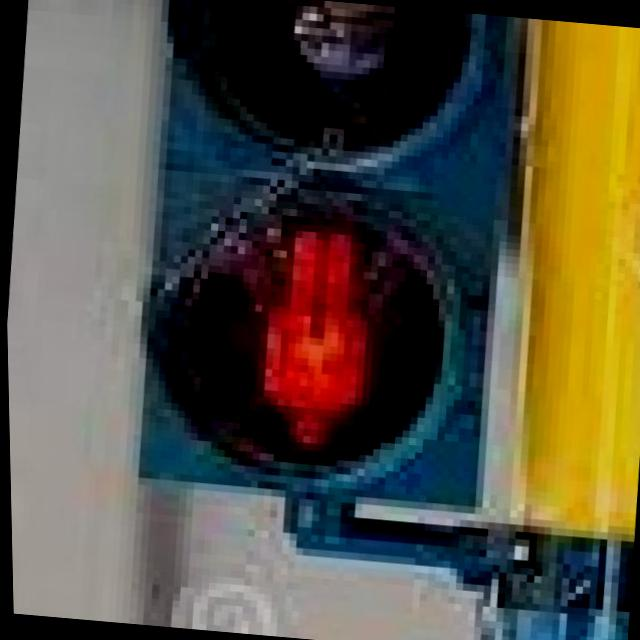red_light: (236, 219, 411, 491)
